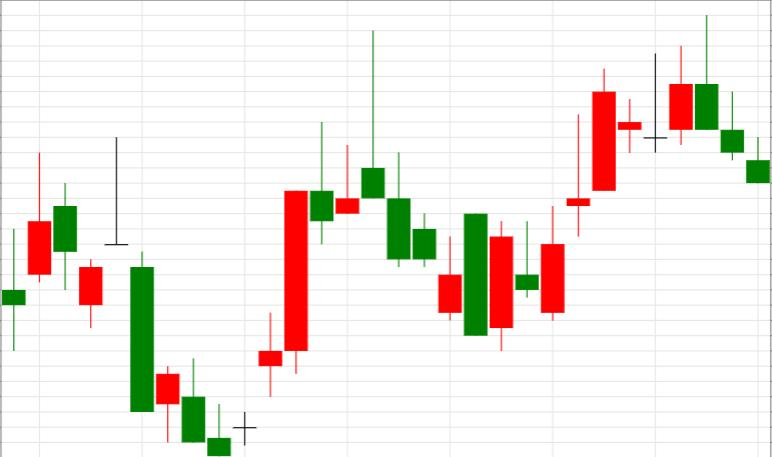shooting_star_fall: (259, 31, 385, 396)
